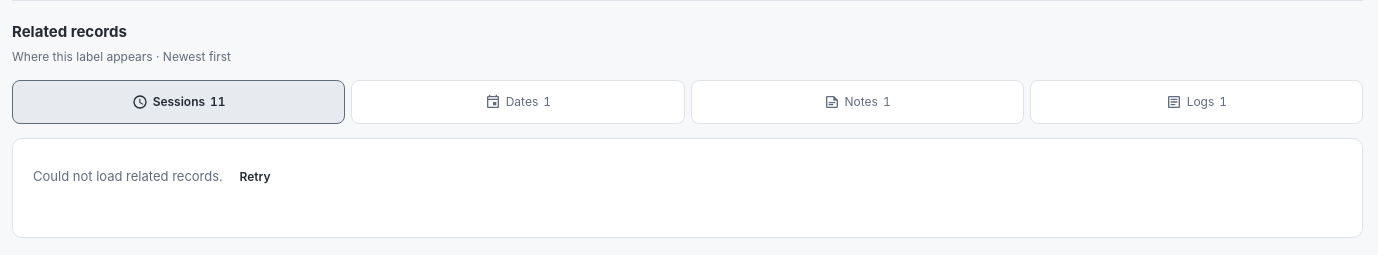
Scenario: retries failures and shows an empty state
The width and height of the screenshot is (1378, 255).
Click the button "Retry": (255, 176) [226,158,284,194]
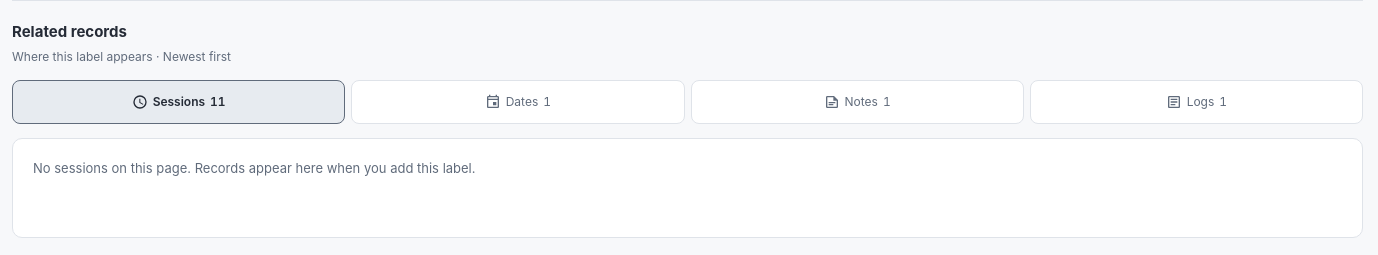
Check: the message "No sessions on this page. Records appear here when you add this label." is shown, box [33,160,476,176]
